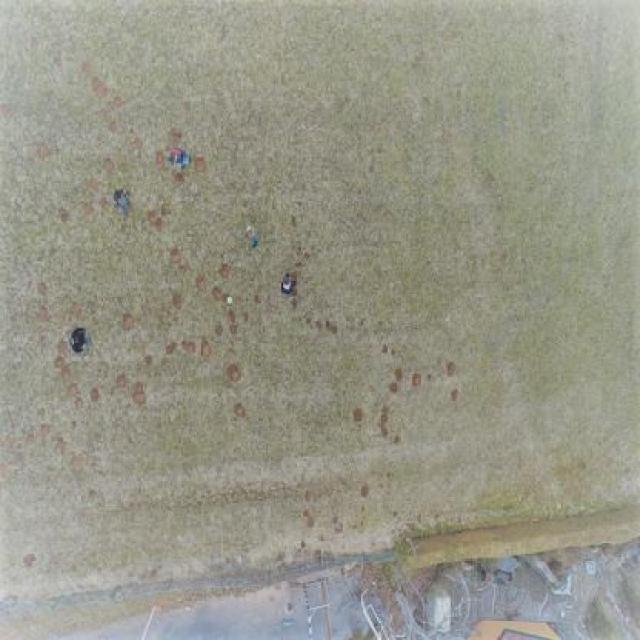Person: (57, 321, 94, 356), (103, 181, 134, 217), (164, 139, 190, 176), (237, 218, 261, 247), (274, 266, 294, 296)
